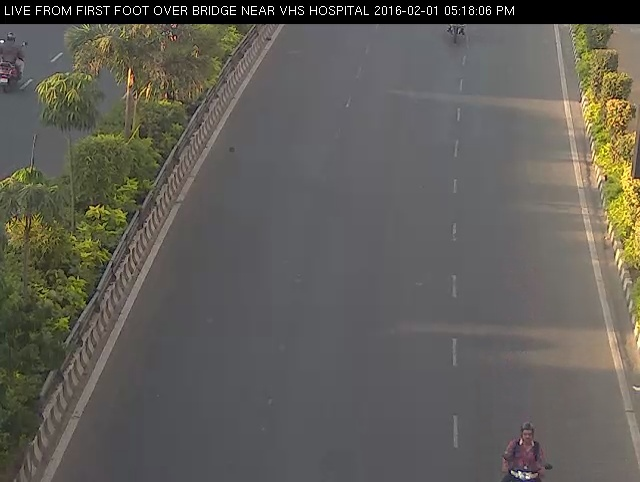Person: (496, 407, 563, 482)
